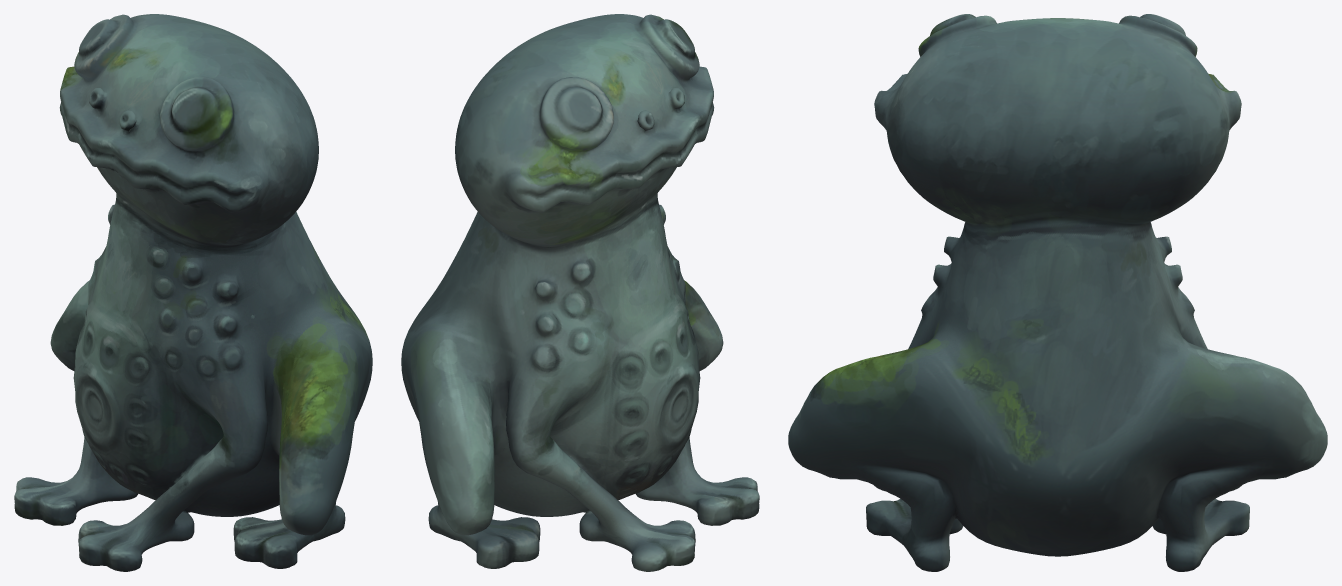
The model's file is frog_statue.glb.
The picture shows the model from 3 angles, left to right: view 1: azimuth 30°, elevation 25°; view 2: azimuth 150°, elevation 25°; view 3: azimuth 270°, elevation 25°; orthographic projection. The views are drawn at different scales.
Visible parts, largest first — view 1: Object_2; view 2: Object_2; view 3: Object_2.
Boxes of the visible parts, left/top/right/bottom form: Object_2: left=14, top=14, right=372, bottom=571; Object_2: left=401, top=14, right=759, bottom=571; Object_2: left=788, top=14, right=1327, bottom=571.
Bounding box in the file's own units: 2.72 × 3.86 × 3.79.
Materials: 1 (1 with a texture image).
